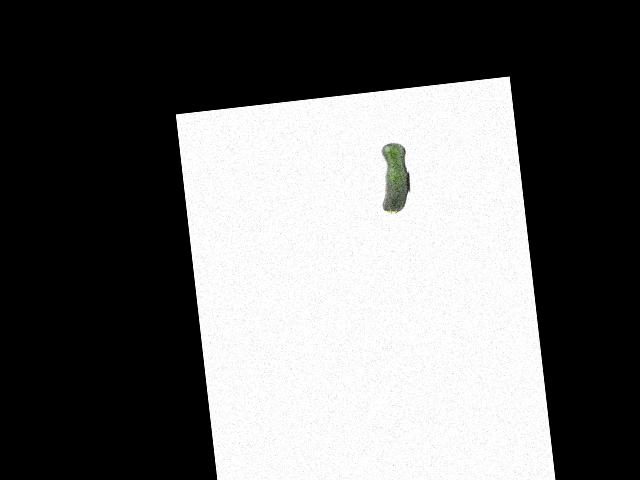cucumber: (375, 142, 412, 215)
